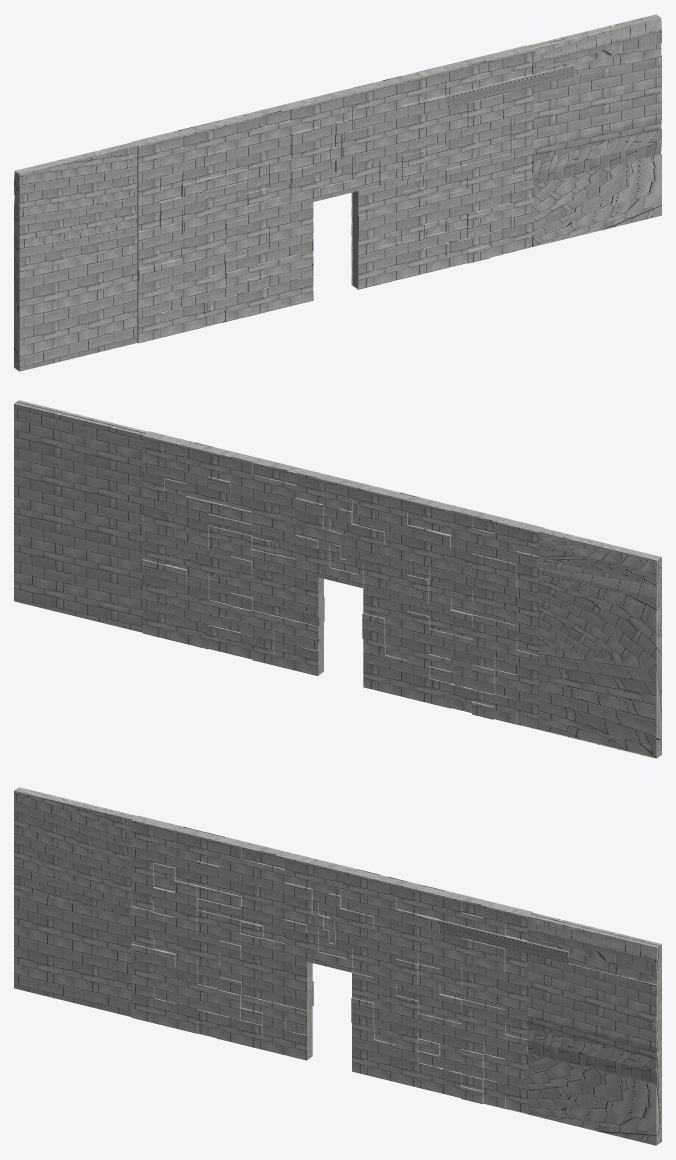
Rendered from wall.obj.
The picture shows the model from 3 angles, top to bottom: view 1: azimuth 30°, elevation 25°; view 2: azimuth 150°, elevation 25°; view 3: azimuth 330°, elevation 25°; orthographic projection.
Visible parts, largest first — view 1: Cube; view 2: Cube; view 3: Cube.
Boxes of the visible parts, <box> form: Cube: <box>14,14,661,371</box>; Cube: <box>14,400,661,758</box>; Cube: <box>14,787,661,1145</box>.
Bounding box in the file's own units: 128 × 37.7 × 2.67.
